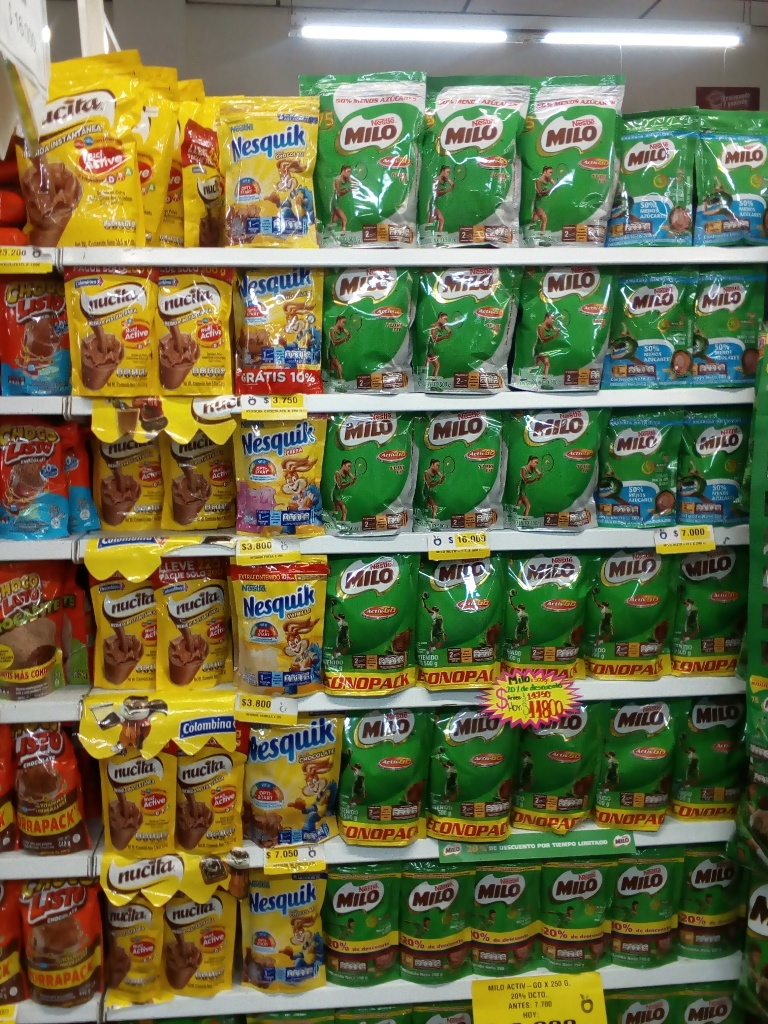COL0170102DYP25000: (1, 560, 75, 704)
COL0170103DYP44000: (0, 880, 98, 1015)
COL0170104DYP20000: (1, 414, 77, 543)
COL0170203DYP25000: (680, 844, 744, 959)
COL0170203DYP50000: (673, 543, 748, 677)
COL0170205DYP20000: (695, 108, 765, 244)
COL0170205DYP50000: (522, 69, 627, 245)
COL0170303DYP20000: (240, 867, 328, 991)
COL0170305DYP20000: (233, 411, 330, 531)
